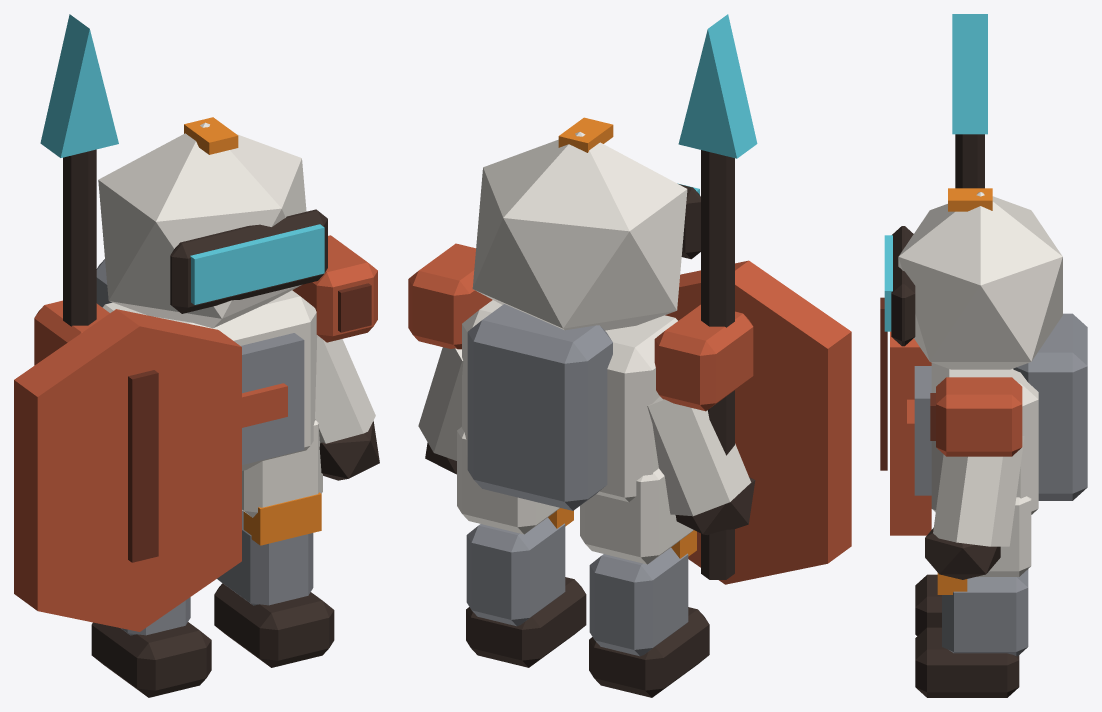
The model's file is u_spearman.glb.
3 views of the same model, side by side, from view 1: azimuth 30°, elevation 25°; view 2: azimuth 150°, elevation 25°; view 3: azimuth 270°, elevation 25° (orthographic). The views are drawn at different scales.
Visible parts, largest first — view 1: u_spearman; view 2: u_spearman; view 3: u_spearman.
Boxes of the visible parts, <box> form: u_spearman: <box>14,14,379,697</box>; u_spearman: <box>408,14,851,697</box>; u_spearman: <box>880,14,1087,697</box>.
Size of the model in its own units: 0.1886 by 0.32 by 0.1019.
